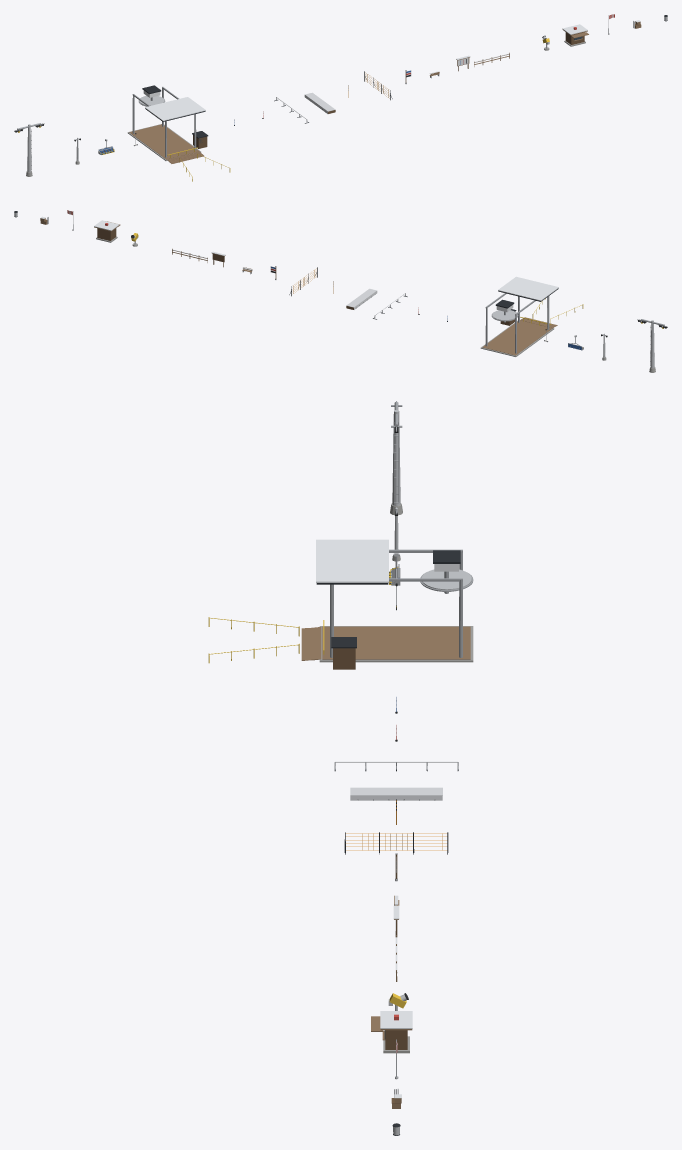
The model's file is lifts.glb.
3 views of the same model, one above another, from view 1: azimuth 30°, elevation 25°; view 2: azimuth 150°, elevation 25°; view 3: azimuth 270°, elevation 25° (orthographic). The views are drawn at different scales.
Parts seen in each view (by area): view 1: lift_station, prop_ticket, lift_pylon, park_box; view 2: lift_station, prop_ticket, lift_pylon, park_box; view 3: lift_station, prop_ticket, park_box.
Part boxes in pixels (x1,y1,x2,y2): lift_station: [127, 85, 230, 181]; prop_ticket: [562, 24, 588, 46]; lift_pylon: [14, 123, 44, 176]; park_box: [304, 92, 335, 113]; lift_station: [480, 276, 583, 356]; prop_ticket: [94, 220, 120, 242]; lift_pylon: [637, 319, 667, 372]; park_box: [346, 288, 377, 309]; lift_station: [208, 539, 473, 669]; prop_ticket: [371, 1011, 412, 1053]; park_box: [350, 787, 442, 800].
Size of the model in its own units: 147 by 11.03 by 25.84.
